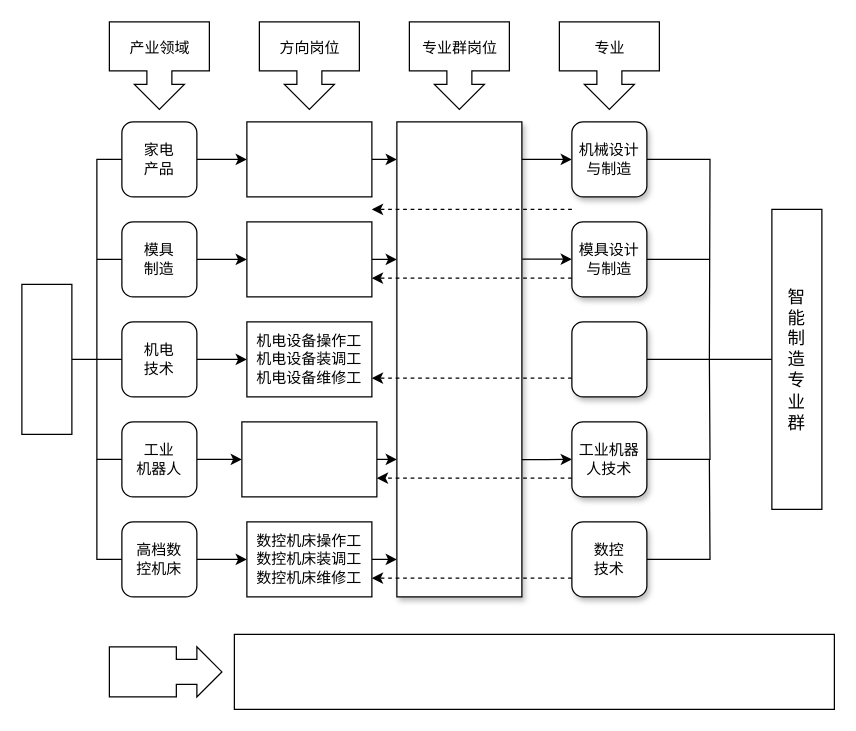
This 856x731 diagram has some shape labels left out. The centre of each missing label's shape, as x and y in pixels:
专业基础相通、技术领域相近、职业岗位相关、教学资源共享: point 533,671
家电产品设计员 家电产品制造 产品质检员: point 309,159
工业机器人操作工 工业机器人程序员 工业机器人装调工: point 309,459
智 能 制 造: point 46,358
智能制造 装备几何 建模 智能制造 装备编程、 加工 智能制造 装备安装、 调试 智能制造 装备维护、 销售及技 术支持: point 460,361
机电一体化技术: point 610,361
模具设计员 模具制造工艺员 模具钳工: point 309,259
组群原则: point 165,671
